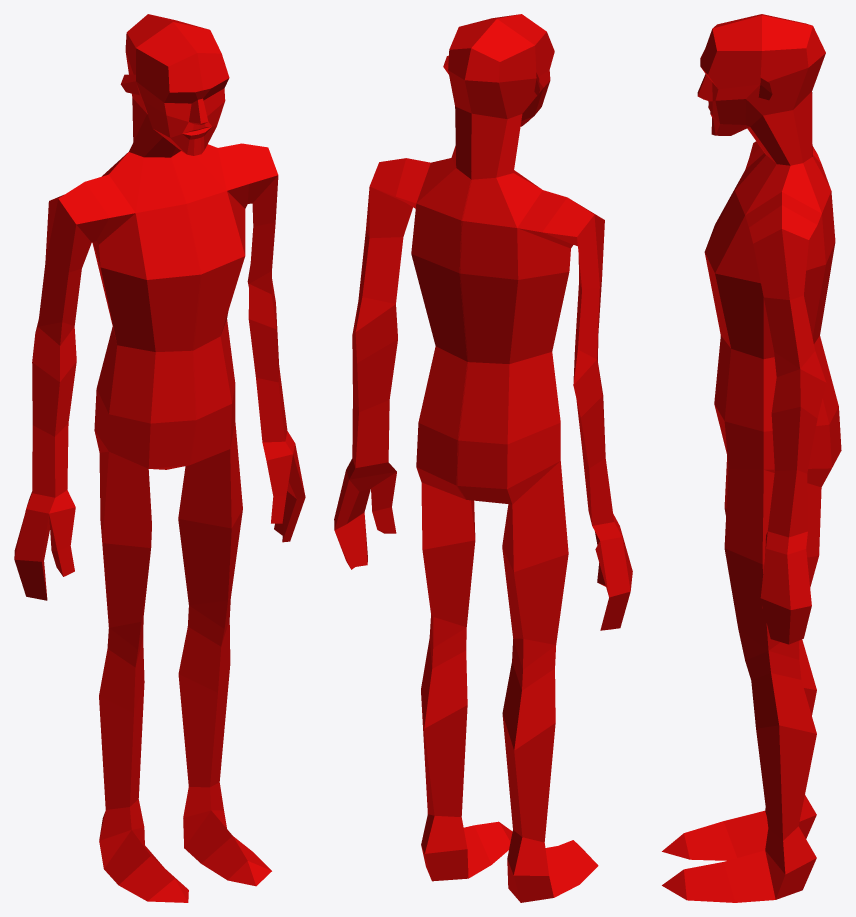
The model's file is Body&Head.fbx.
The picture shows the model from 3 angles, left to right: view 1: azimuth 30°, elevation 25°; view 2: azimuth 150°, elevation 25°; view 3: azimuth 270°, elevation 25°; orthographic projection. The views are drawn at different scales.
Visible parts, largest first — view 1: Plane.001; view 2: Plane.001; view 3: Plane.001.
Boxes of the visible parts, left/top/right/bottom form: Plane.001: left=14, top=14, right=305, bottom=902; Plane.001: left=334, top=14, right=632, bottom=902; Plane.001: left=662, top=14, right=841, bottom=902.
Size of the model in its own units: 884 by 2446 by 467.
